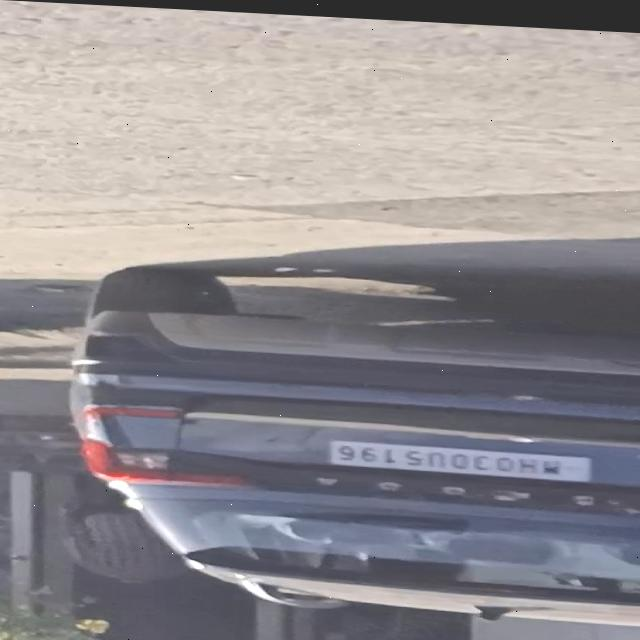plate: (316, 433, 600, 485)
